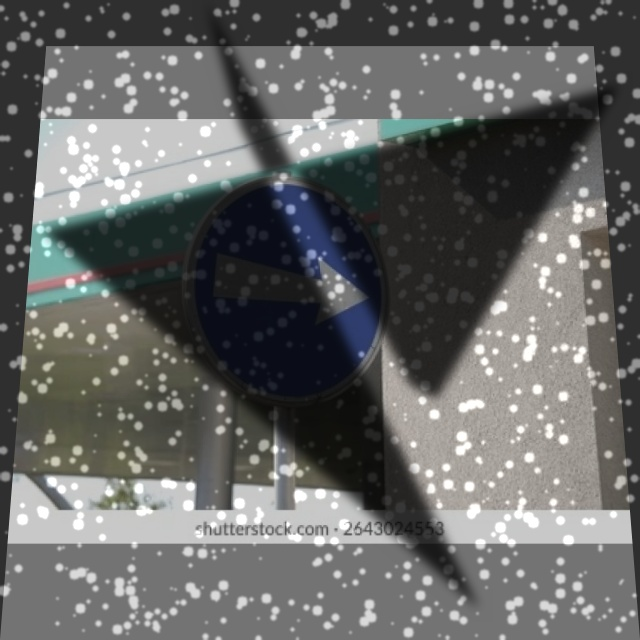Compulsory_Turn_Right: (184, 173, 397, 408)
